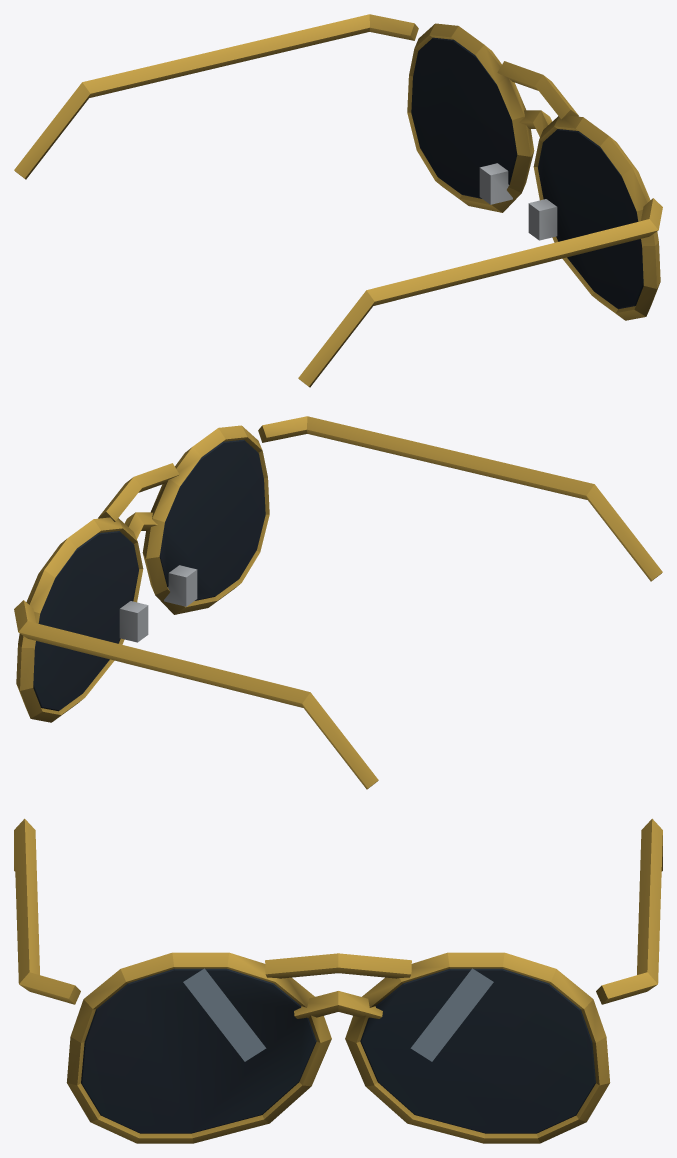
The model's file is warden_glasses.glb.
3 renders of one model, top to bottom at view 1: azimuth 30°, elevation 25°; view 2: azimuth 150°, elevation 25°; view 3: azimuth 270°, elevation 25°, orthographic. The views are drawn at different scales.
Parts seen in each view (by area): view 1: Body; view 2: Body; view 3: Body.
Part boxes in pixels (x1=…): Body: x1=14, y1=14, x2=662, y2=387; Body: x1=14, y1=416, x2=662, y2=789; Body: x1=14, y1=818, x2=662, y2=1143.
Size of the model in its own units: 0.4214 by 0.1798 by 0.542.
